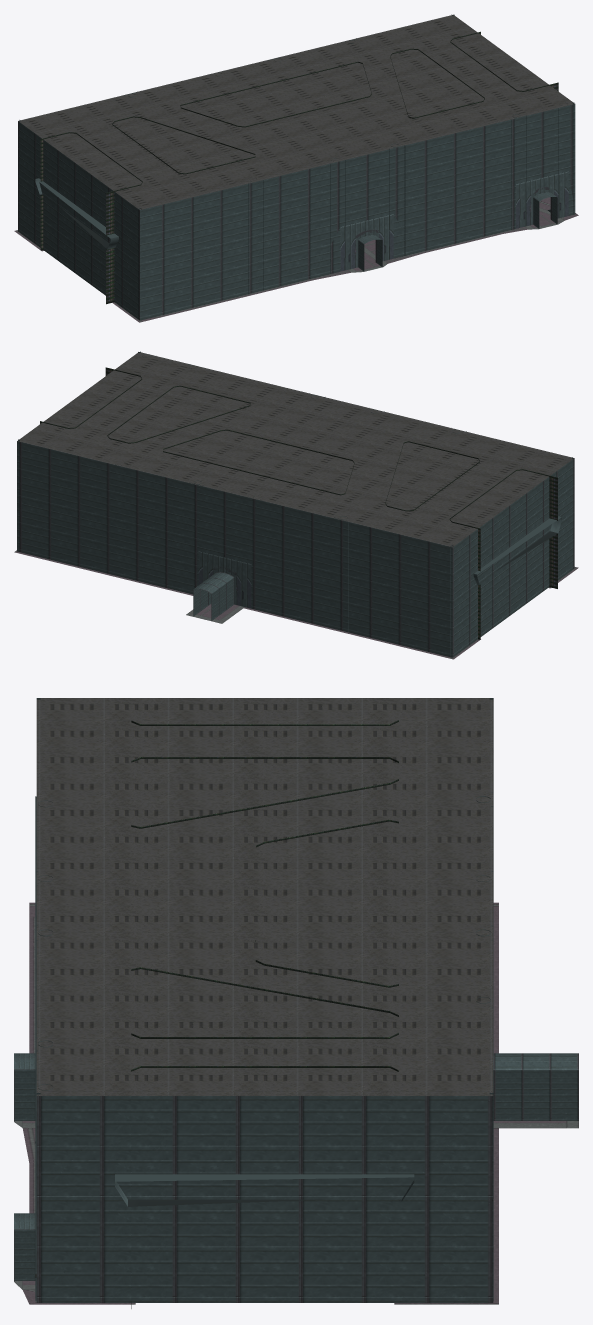
File: Cor1_bldg_Server_room.fbx
3 views of the same model, one above another, from view 1: azimuth 30°, elevation 25°; view 2: azimuth 150°, elevation 25°; view 3: azimuth 270°, elevation 25° (orthographic). The views are drawn at different scales.
Parts seen in each view (by area): view 1: Cor1_bldg_Server_room3, Cor1_bldg_Server_room1, polymsh1401, polymsh47, polymsh54, Cor1_bldg_Server_room2, polymsh_detached134, polymsh_detached133; view 2: Cor1_bldg_Server_room3, Cor1_bldg_Server_room1, polymsh47, polymsh1401, Cor1_bldg_Server_room2, polymsh_detached135, polymsh54; view 3: Cor1_bldg_Server_room1, Cor1_bldg_Server_room3, polymsh_detached135, Cor1_bldg_Server_room2, polymsh54, polymsh47, polymsh_detached134, polymsh_detached133.
Boxes of the visible parts, left/top/right/bottom form: Cor1_bldg_Server_room3: left=18, top=14, right=575, bottom=320; Cor1_bldg_Server_room1: left=18, top=14, right=574, bottom=209; polymsh1401: left=340, top=171, right=568, bottom=271; polymsh47: left=40, top=31, right=558, bottom=304; polymsh54: left=35, top=38, right=573, bottom=293; Cor1_bldg_Server_room2: left=14, top=197, right=578, bottom=322; polymsh_detached134: left=533, top=192, right=557, bottom=228; polymsh_detached133: left=358, top=235, right=382, bottom=271; Cor1_bldg_Server_room3: left=17, top=351, right=574, bottom=657; Cor1_bldg_Server_room1: left=17, top=352, right=574, bottom=547; polymsh47: left=40, top=367, right=557, bottom=639; polymsh1401: left=198, top=551, right=251, bottom=608; Cor1_bldg_Server_room2: left=14, top=550, right=578, bottom=659; polymsh_detached135: left=193, top=572, right=234, bottom=620; polymsh54: left=115, top=354, right=561, bottom=631; Cor1_bldg_Server_room1: left=36, top=698, right=493, bottom=1095; Cor1_bldg_Server_room3: left=36, top=698, right=493, bottom=1302; polymsh_detached135: left=493, top=1053, right=578, bottom=1120; Cor1_bldg_Server_room2: left=14, top=902, right=578, bottom=1304; polymsh54: left=35, top=792, right=493, bottom=1301; polymsh47: left=131, top=720, right=398, bottom=1308; polymsh_detached134: left=14, top=1213, right=35, bottom=1280; polymsh_detached133: left=14, top=1053, right=35, bottom=1120.
Size of what is drawn, in the model's own units: 6856 by 1616 by 3959.
